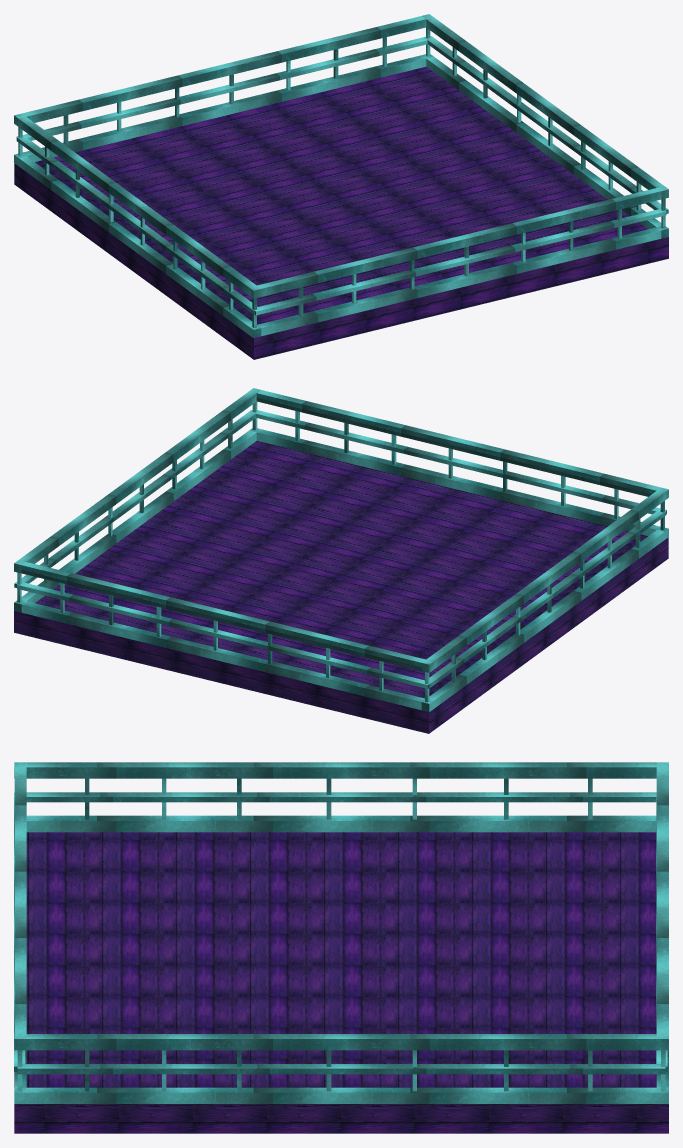
The model's file is plataformacarga.fbx.
3 views of the same model, one above another, from view 1: azimuth 30°, elevation 25°; view 2: azimuth 150°, elevation 25°; view 3: azimuth 270°, elevation 25° (orthographic). The views are drawn at different scales.
Parts seen in each view (by area): view 1: polySurface91, polySurface89; view 2: polySurface91, polySurface89; view 3: polySurface91, polySurface89.
Part boxes in pixels (x1=…): polySurface91: x1=14, y1=67, x2=668, y2=359; polySurface89: x1=14, y1=14, x2=668, y2=338; polySurface91: x1=14, y1=441, x2=668, y2=733; polySurface89: x1=14, y1=388, x2=668, y2=712; polySurface91: x1=14, y1=832, x2=668, y2=1133; polySurface89: x1=14, y1=762, x2=668, y2=1103.
Bounding box in the file's own units: 23.89 × 3.8 × 23.83.
